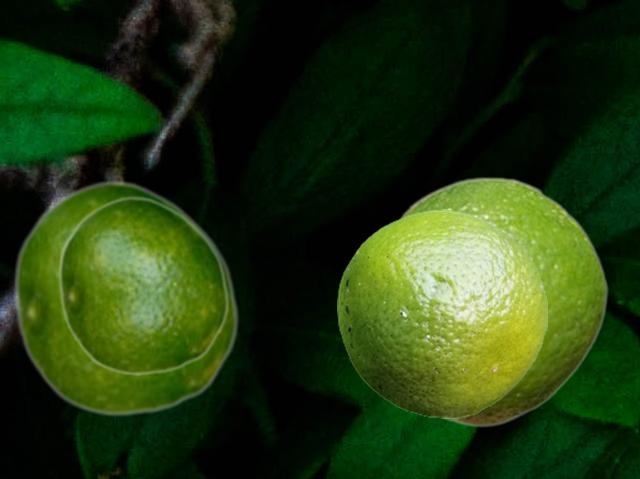calamansi: (12, 179, 239, 416), (399, 176, 607, 427), (337, 209, 546, 417), (57, 195, 229, 375)
